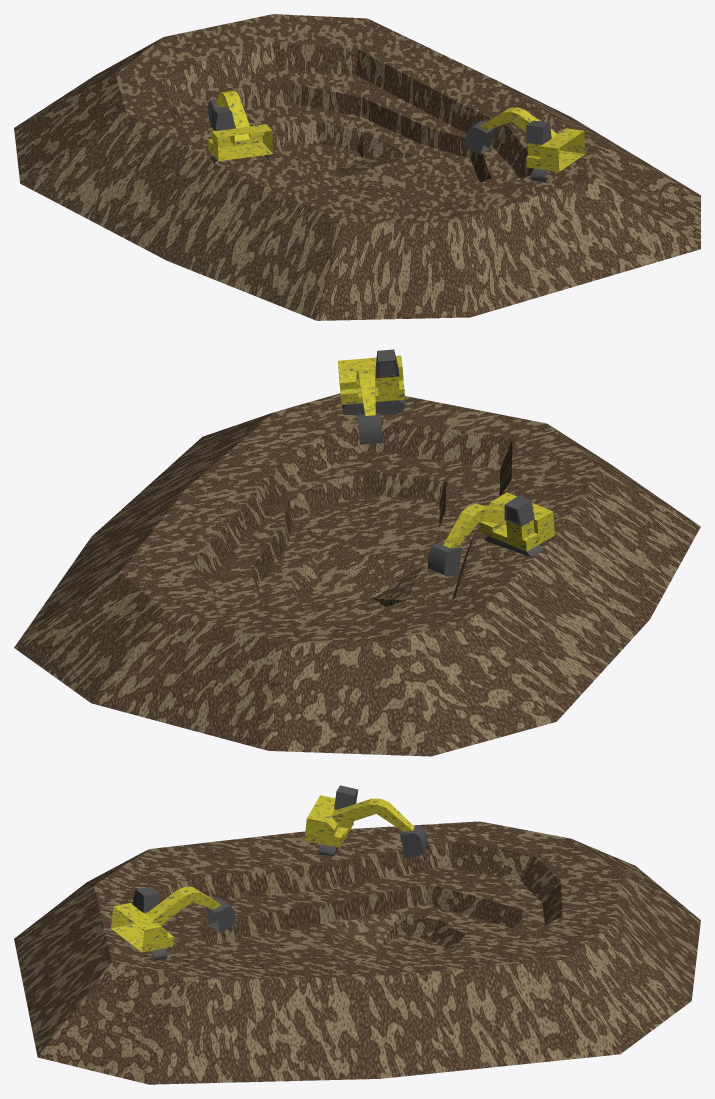
Rendered from mine.fbx.
3 views of the same model, one above another, from view 1: azimuth 30°, elevation 25°; view 2: azimuth 150°, elevation 25°; view 3: azimuth 270°, elevation 25° (orthographic). The views are drawn at different scales.
Parts seen in each view (by area): view 1: pPlane1, pCube6, pCube2, pCube7; view 2: pPlane1, pCube2, pCube6, pCube4, pCube7, pCube5; view 3: pPlane1, pCube6, pCube2, pCube7, pCube4.
Boxes of the visible parts, <box> form: pPlane1: <box>14,14,700,320</box>; pCube6: <box>479,107,585,171</box>; pCube2: <box>208,90,273,160</box>; pCube7: <box>465,121,496,154</box>; pPlane1: <box>14,393,700,756</box>; pCube2: <box>443,492,554,551</box>; pCube6: <box>338,349,405,415</box>; pCube4: <box>427,542,462,576</box>; pCube7: <box>357,412,382,444</box>; pCube5: <box>342,399,404,415</box>; pPlane1: <box>14,821,700,1084</box>; pCube6: <box>111,886,220,952</box>; pCube2: <box>304,785,414,847</box>; pCube7: <box>205,898,235,933</box>; pCube4: <box>400,825,427,857</box>.
Bounding box in the file's own units: 25.56 × 5.64 × 30.24.
